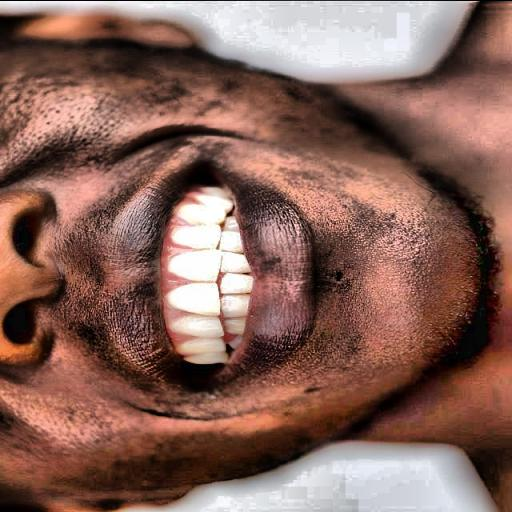Healthy: (112, 131, 343, 385)
